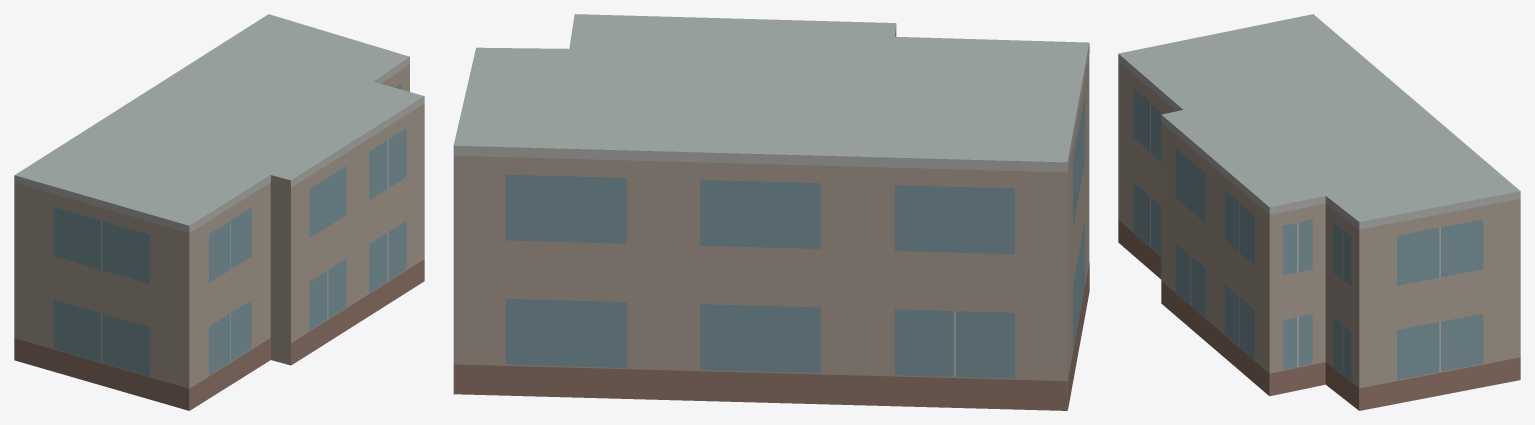
The model's file is survey-upis-32702133.glb.
The picture shows the model from 3 angles, left to right: view 1: azimuth 30°, elevation 25°; view 2: azimuth 150°, elevation 25°; view 3: azimuth 270°, elevation 25°; orthographic projection. The views are drawn at different scales.
Parts seen in each view (by area): view 1: survey-upis-32702133.tmp; view 2: survey-upis-32702133.tmp; view 3: survey-upis-32702133.tmp.
Part boxes in pixels (bbox=[...]): survey-upis-32702133.tmp: bbox=[14, 14, 424, 410]; survey-upis-32702133.tmp: bbox=[453, 14, 1089, 410]; survey-upis-32702133.tmp: bbox=[1118, 14, 1520, 410].
Size of the model in its own units: 14.43 by 6.1 by 11.79.
